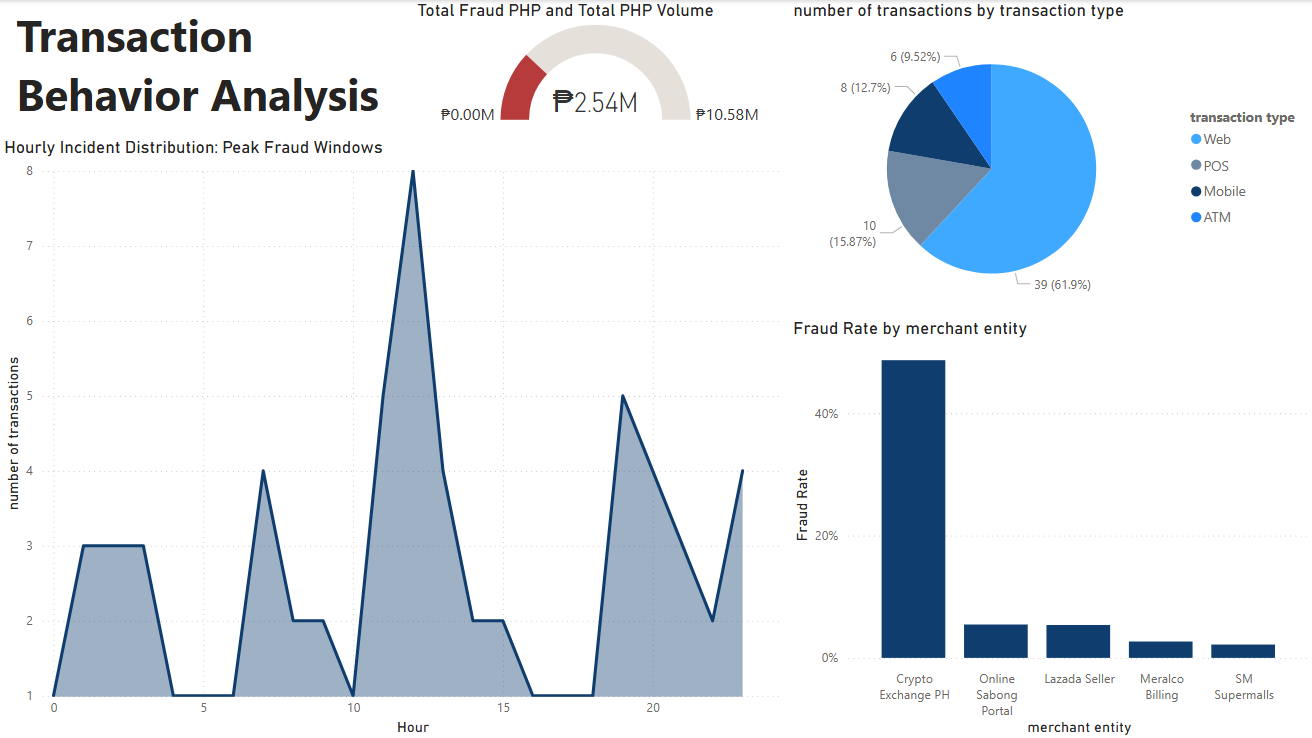

Layout of this report page (visuals, bound fields, positions):
{"tool":"powerbi","page":{"name":"Transaction Behavior Analysis","canvas":[1280,720],"ordinal":3},"visuals":[{"type":"areaChart","title":"Hourly Incident Distribution: Peak Fraud Windows","fields":{"Category":["fact_transactions.Hour"],"Series":["fact_transactions.fraud_flag"],"Y":["CountNonNull(fact_transactions.transaction_id)"]},"box":[0,133.3,767.4,586.5],"z":0},{"type":"pieChart","fields":{"Category":["dim_transaction_types.type_name"],"Y":["CountNonNull(fact_transactions.transaction_id)"]},"box":[767.1,0,512.9,309.4],"z":1000},{"type":"clusteredColumnChart","fields":{"Category":["dim_merchant.merchant_name"],"Y":["fact_transactions.Fraud Rate %"]},"box":[767.1,309.4,512.9,410.6],"z":2000},{"type":"textbox","box":[11.7,0,371.6,126.4],"z":3000},{"type":"gauge","fields":{"Y":["fact_transactions.Total Fraud PHP"],"MaxValue":["fact_transactions.Total PHP Volume"]},"box":[401.7,0,365.7,126.4],"z":4001}]}

Visuals, with their boxes in screenshot pixels (x1, y1, x2, y2), scaled from the page's 1280x720 canvas onto the 1312x738 screenshot:
"Hourly Incident Distribution: Peak Fraud Windows" areaChart: bbox=(0, 137, 787, 737)
pieChart - dim_transaction_types.type_name x CountNonNull(fact_transactions.transaction_id): bbox=(786, 0, 1311, 317)
clusteredColumnChart - dim_merchant.merchant_name x fact_transactions.Fraud Rate %: bbox=(786, 317, 1311, 737)
textbox: bbox=(12, 0, 393, 130)
gauge - fact_transactions.Total Fraud PHP x fact_transactions.Total PHP Volume: bbox=(412, 0, 787, 130)
